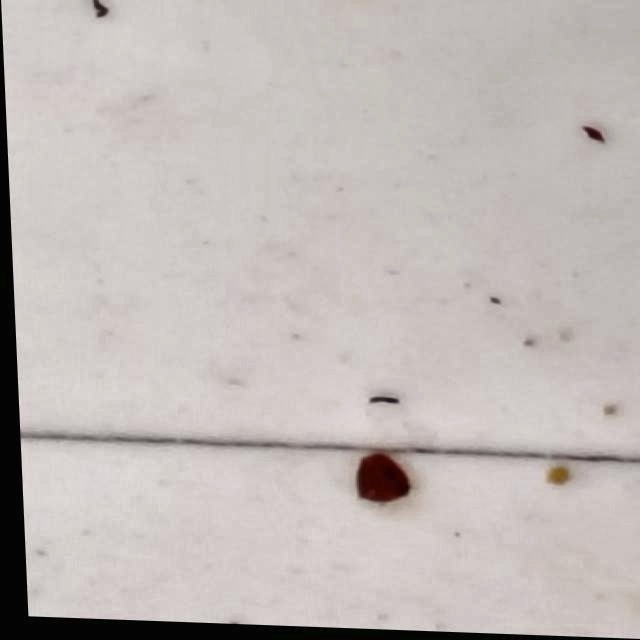varroa: (345, 456, 405, 508)
